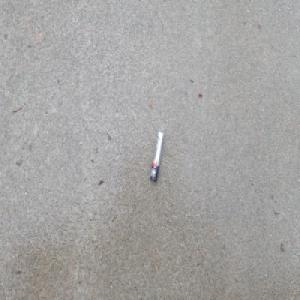Battery: (150, 130, 164, 183)
